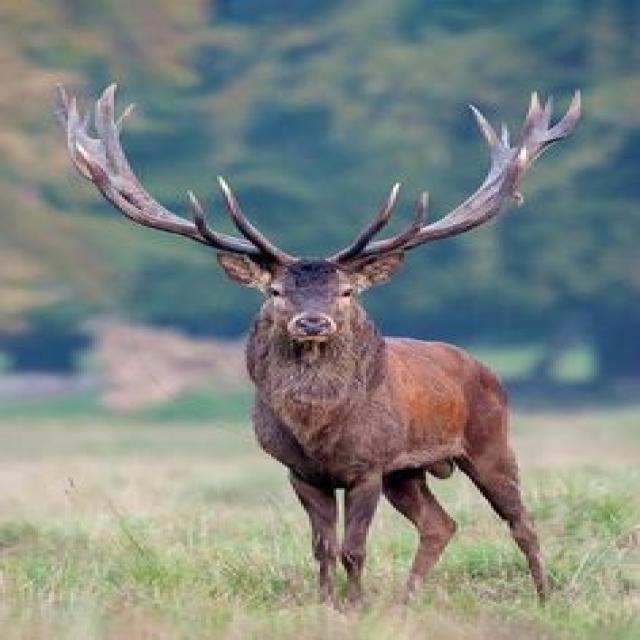Herbivorous: (57, 89, 578, 618)
